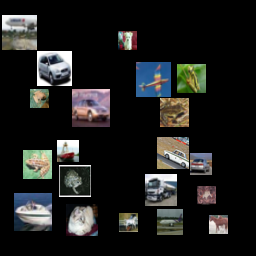airplane: (136, 62, 171, 97), (2, 15, 37, 50), (157, 209, 183, 235)
automobile: (72, 89, 110, 127), (37, 51, 72, 86), (157, 137, 189, 169), (190, 153, 212, 175)
cat: (66, 204, 98, 236)
dog: (118, 31, 137, 50)
frog: (59, 165, 91, 197), (160, 98, 189, 127), (23, 150, 52, 179), (177, 64, 206, 93), (197, 186, 216, 205), (30, 89, 49, 108)
ship: (14, 193, 52, 231), (57, 140, 79, 162)
